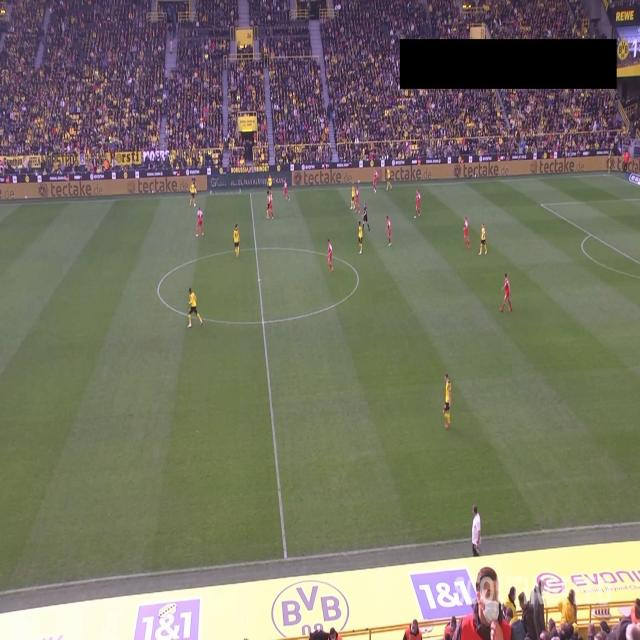ball: (194, 202, 196, 208)
